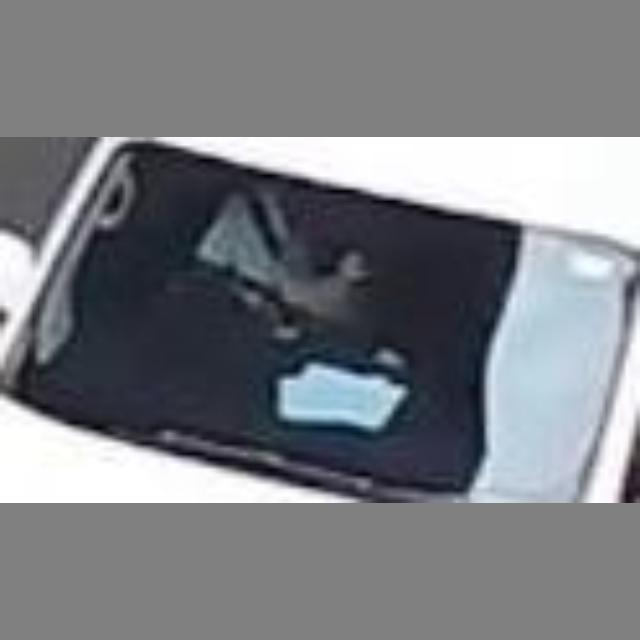pakai: (186, 168, 361, 349)
